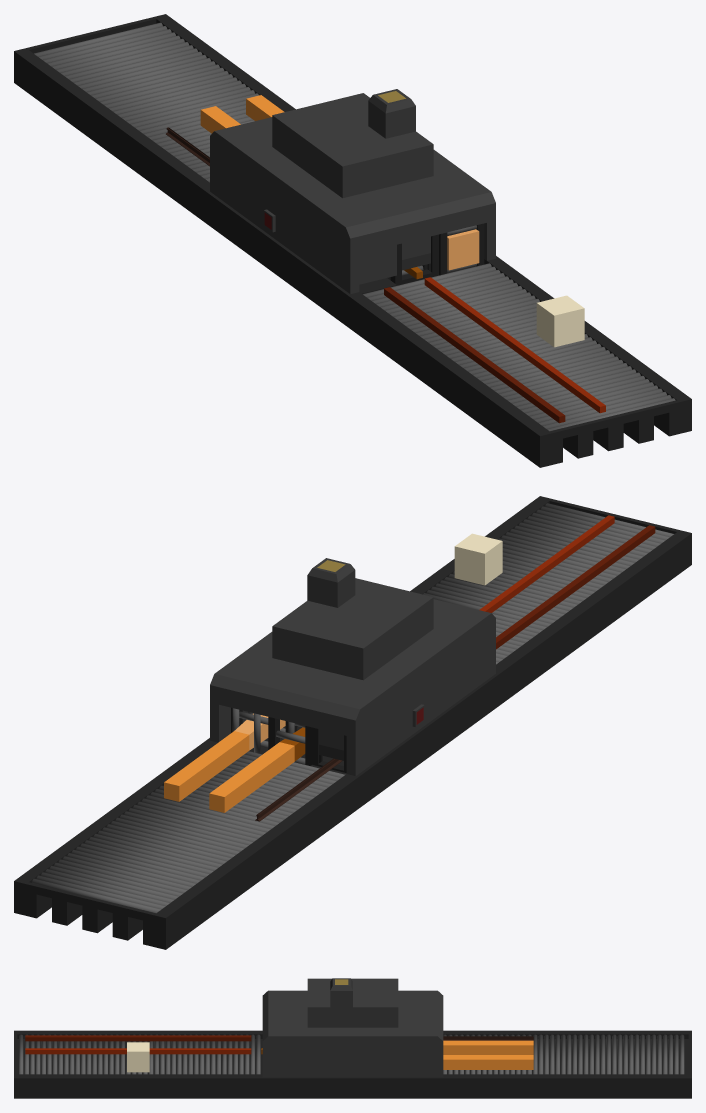
Rendered from rail_machine.obj.
3 views of the same model, one above another, from view 1: azimuth 30°, elevation 25°; view 2: azimuth 150°, elevation 25°; view 3: azimuth 270°, elevation 25° (orthographic). The views are drawn at different scales.
Parts seen in each view (by area): view 1: group_0_ID3, group_87_ID622, group_87.001_ID630, STAGE_6_ID1983, STAGE_5_ID1038, STAGE_0_ID1473, group_0.001_ID11, group_155_ID1073, STAGE_1_ID1029, BLADE_1_ID1431, STAGE_3_ID1066; view 2: group_0_ID3, group_87_ID622, group_87.001_ID630, STAGE_3_ID1066, STAGE_2_ID1057, STAGE_0_ID1473, STAGE_6_ID1983, STAGE_5_ID1038, group_0.001_ID11, RAIL_LEFT.002_ID1994, group_74_ID531; view 3: group_0_ID3, group_87_ID622, group_0.001_ID11, group_87.001_ID630, STAGE_6_ID1983, STAGE_5_ID1038, STAGE_3_ID1066, STAGE_2_ID1057, STAGE_0_ID1473, RAIL_LEFT.002_ID1994, group_85_ID608, group_79_ID566 (+2 smaller).
Boxes of the visible parts, x1=… form: group_0_ID3: x1=14, y1=14, x2=691, y2=467; group_87_ID622: x1=210, y1=117, x2=495, y2=294; group_87.001_ID630: x1=272, y1=89, x2=433, y2=198; STAGE_6_ID1983: x1=384, y1=287, x2=565, y2=423; STAGE_5_ID1038: x1=424, y1=277, x2=605, y2=413; STAGE_0_ID1473: x1=536, y1=295, x2=584, y2=347; group_0.001_ID11: x1=29, y1=19, x2=676, y2=400; group_155_ID1073: x1=359, y1=244, x2=396, y2=284; STAGE_1_ID1029: x1=447, y1=229, x2=479, y2=270; BLADE_1_ID1431: x1=402, y1=236, x2=430, y2=270; STAGE_3_ID1066: x1=200, y1=106, x2=240, y2=133; group_0_ID3: x1=14, y1=496, x2=691, y2=949; group_87_ID622: x1=210, y1=599, x2=495, y2=776; group_87.001_ID630: x1=272, y1=558, x2=433, y2=680; STAGE_3_ID1066: x1=209, y1=742, x2=294, y2=812; STAGE_2_ID1057: x1=164, y1=731, x2=249, y2=801; STAGE_0_ID1473: x1=454, y1=533, x2=502, y2=585; STAGE_6_ID1983: x1=496, y1=525, x2=655, y2=649; STAGE_5_ID1038: x1=479, y1=515, x2=614, y2=612; group_0.001_ID11: x1=29, y1=501, x2=676, y2=882; RAIL_LEFT.002_ID1994: x1=255, y1=758, x2=342, y2=821; group_74_ID531: x1=32, y1=878, x2=160, y2=913; group_0_ID3: x1=14, y1=1030, x2=691, y2=1098; group_87_ID622: x1=262, y1=990, x2=443, y2=1077; group_0.001_ID11: x1=17, y1=1034, x2=688, y2=1074; group_87.001_ID630: x1=307, y1=978, x2=398, y2=1027; STAGE_6_ID1983: x1=25, y1=1035, x2=251, y2=1041; STAGE_5_ID1038: x1=25, y1=1048, x2=251, y2=1054; STAGE_3_ID1066: x1=443, y1=1040, x2=533, y2=1054; STAGE_2_ID1057: x1=443, y1=1055, x2=533, y2=1069; STAGE_0_ID1473: x1=127, y1=1042, x2=149, y2=1072; RAIL_LEFT.002_ID1994: x1=443, y1=1036, x2=533, y2=1040; group_85_ID608: x1=651, y1=1034, x2=656, y2=1074; group_79_ID566: x1=617, y1=1034, x2=622, y2=1074.
Bounding box in the file's own units: 5 × 5 × 30.
